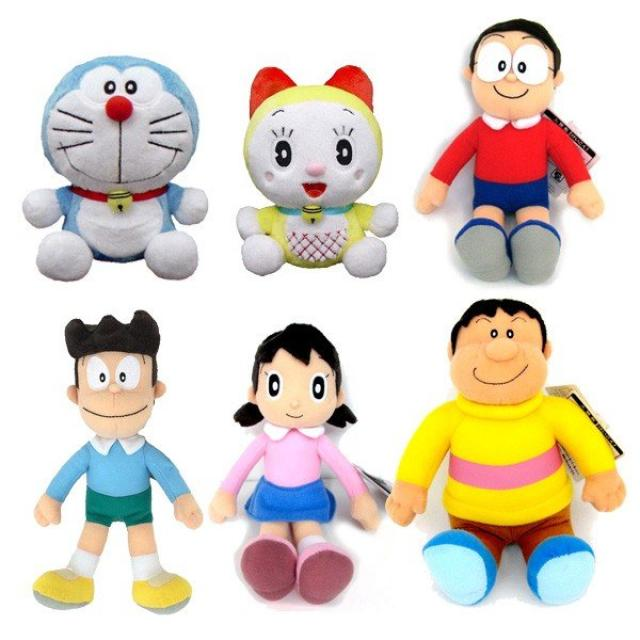doraemon: (29, 44, 226, 239)
jaian: (430, 286, 579, 428)
nobita: (444, 8, 580, 147)
shizuka: (220, 312, 376, 472)
suneo: (64, 300, 177, 463)
